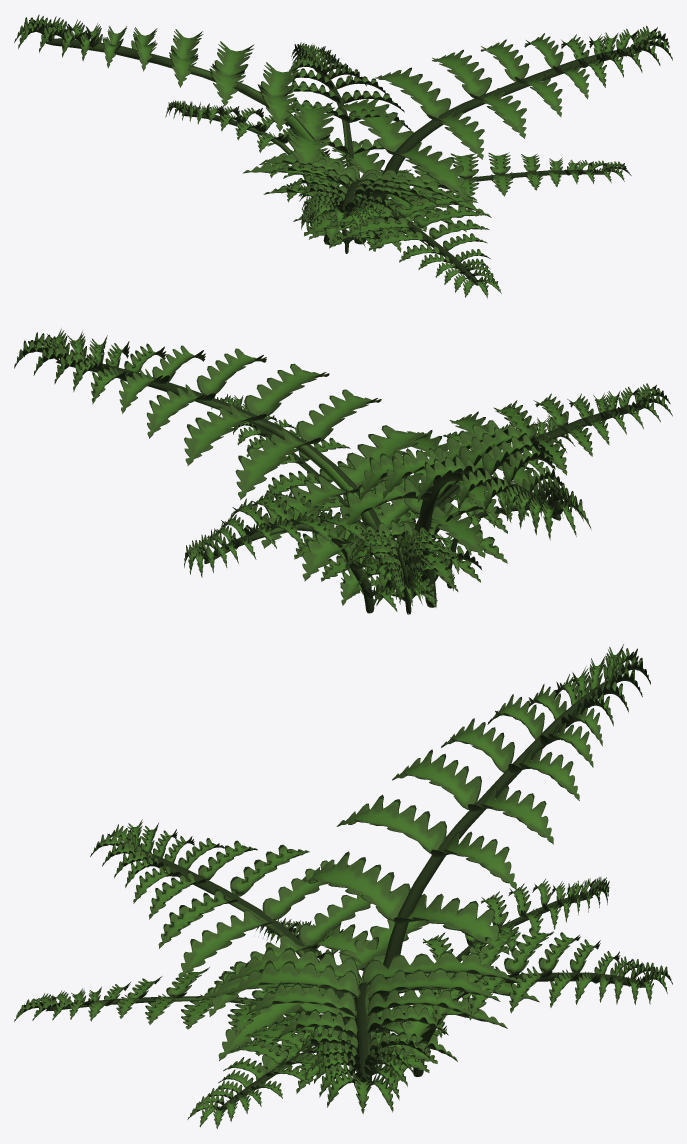
File: plant2.fbx
The picture shows the model from 3 angles, top to bottom: view 1: azimuth 30°, elevation 25°; view 2: azimuth 150°, elevation 25°; view 3: azimuth 270°, elevation 25°; orthographic projection. The views are drawn at different scales.
Visible parts, largest first — view 1: polySurface1; view 2: polySurface1; view 3: polySurface1.
Boxes of the visible parts, x1,y1,x2,y2 form: polySurface1: (14,14,672,298); polySurface1: (14,328,672,614); polySurface1: (14,644,672,1128).
Size of the model in its own units: 103 by 36.89 by 79.49.
1 material, 1 textured.
